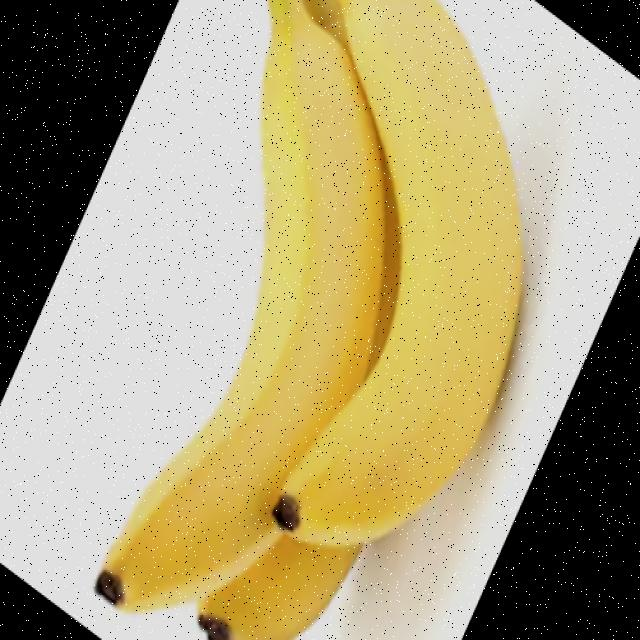god quality banana: (96, 2, 523, 639)
